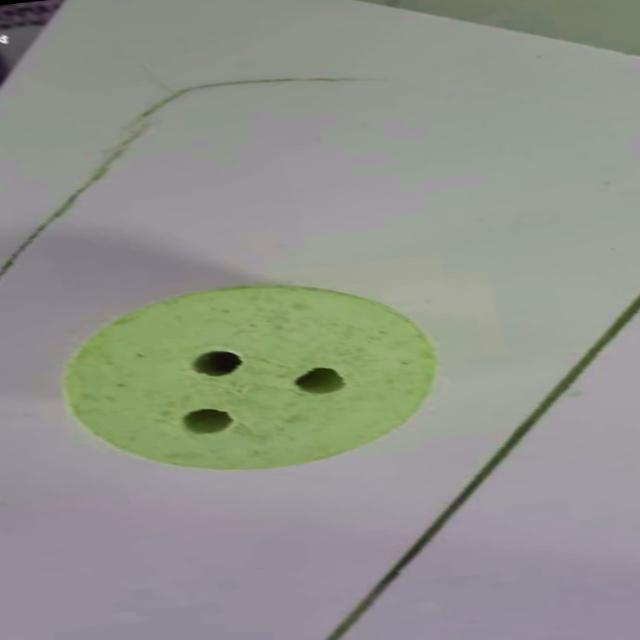Stopper: (33, 264, 453, 498)
